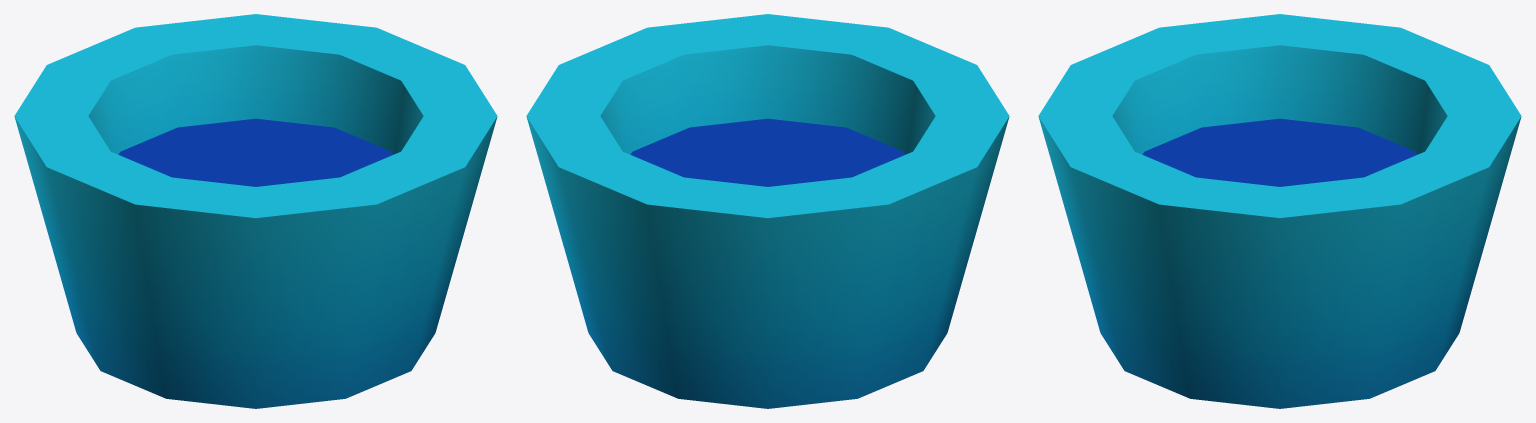
The model's file is Pot_01.glb.
3 views of the same model, side by side, from view 1: azimuth 30°, elevation 25°; view 2: azimuth 150°, elevation 25°; view 3: azimuth 270°, elevation 25° (orthographic).
Parts seen in each view (by area): view 1: Pot_01; view 2: Pot_01; view 3: Pot_01.
Boxes of the visible parts, left/top/right/bottom form: Pot_01: left=14, top=14, right=497, bottom=408; Pot_01: left=526, top=14, right=1009, bottom=408; Pot_01: left=1038, top=14, right=1521, bottom=408.
Size of the model in its own units: 1.3 by 0.6447 by 1.3.
Materials: 1 (1 with a texture image).
